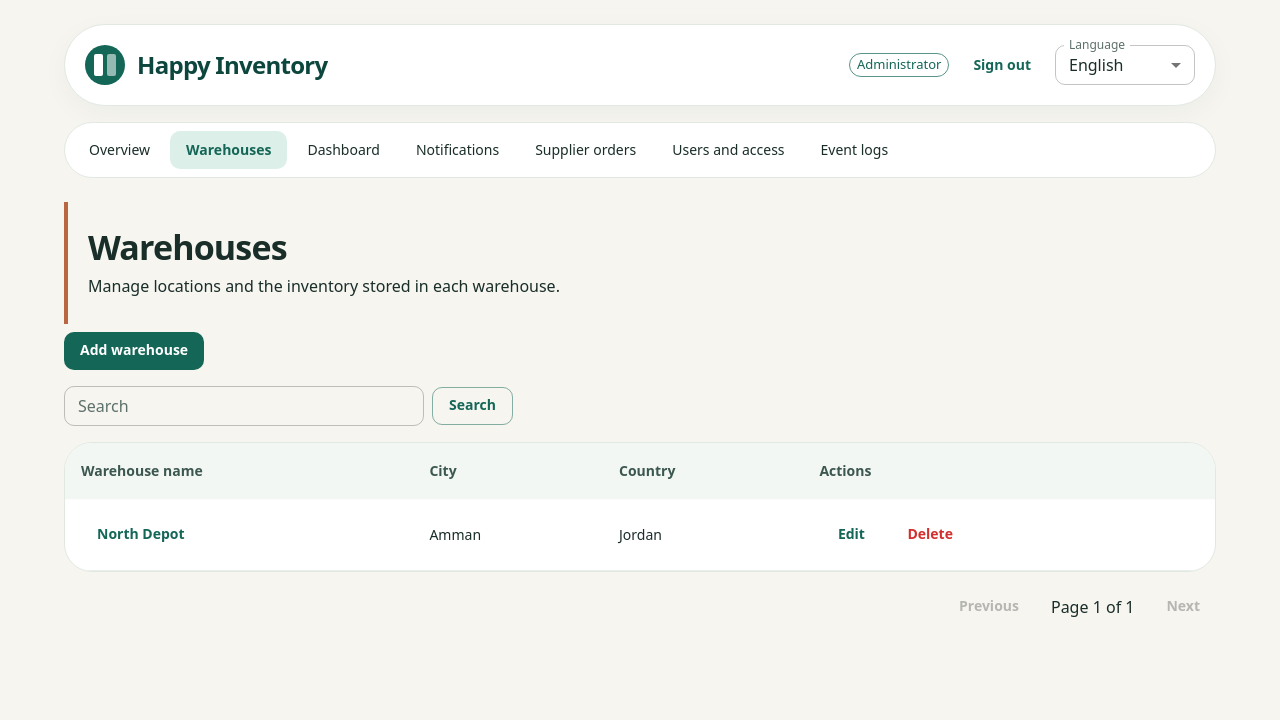
Test case: Phase 4 screens › shows a localized conflict when warehouse deletion is rejected
Expected: the link "North Depot" is shown, [97,524,185,543]
Click the button "Delete" at (930, 535), box [891,516,969,554]
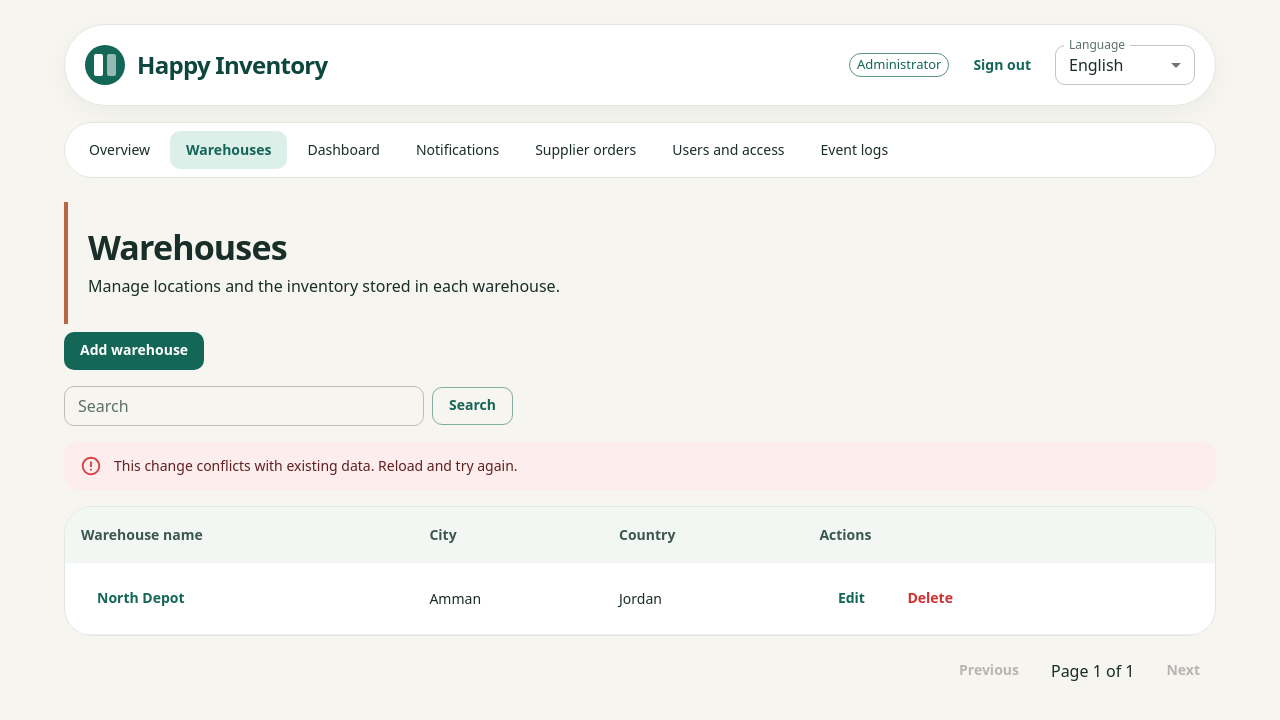
Expected: the message reads "This change conflicts with existing data. Reload and try again.", [114,456,518,475]
